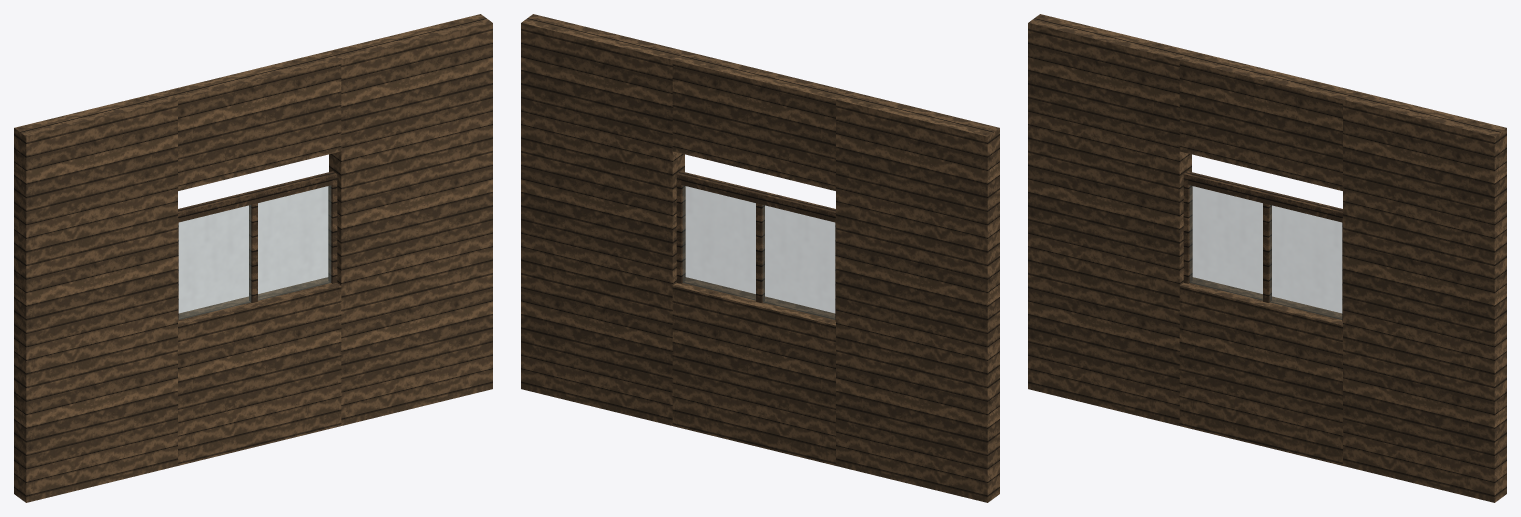
The model's file is kit.wall.window.glb.
3 views of the same model, side by side, from view 1: azimuth 30°, elevation 25°; view 2: azimuth 150°, elevation 25°; view 3: azimuth 330°, elevation 25° (orthographic).
Visible parts, largest first — view 1: kit.wall.window; view 2: kit.wall.window; view 3: kit.wall.window.
Part boxes in pixels (box(x1,y1,x2,y2)): kit.wall.window: box(14, 14, 492, 502); kit.wall.window: box(521, 14, 999, 502); kit.wall.window: box(1028, 14, 1506, 502).
Bounding box in the file's own units: 4 × 3 × 0.18.
Materials: 3 (3 with a texture image).
